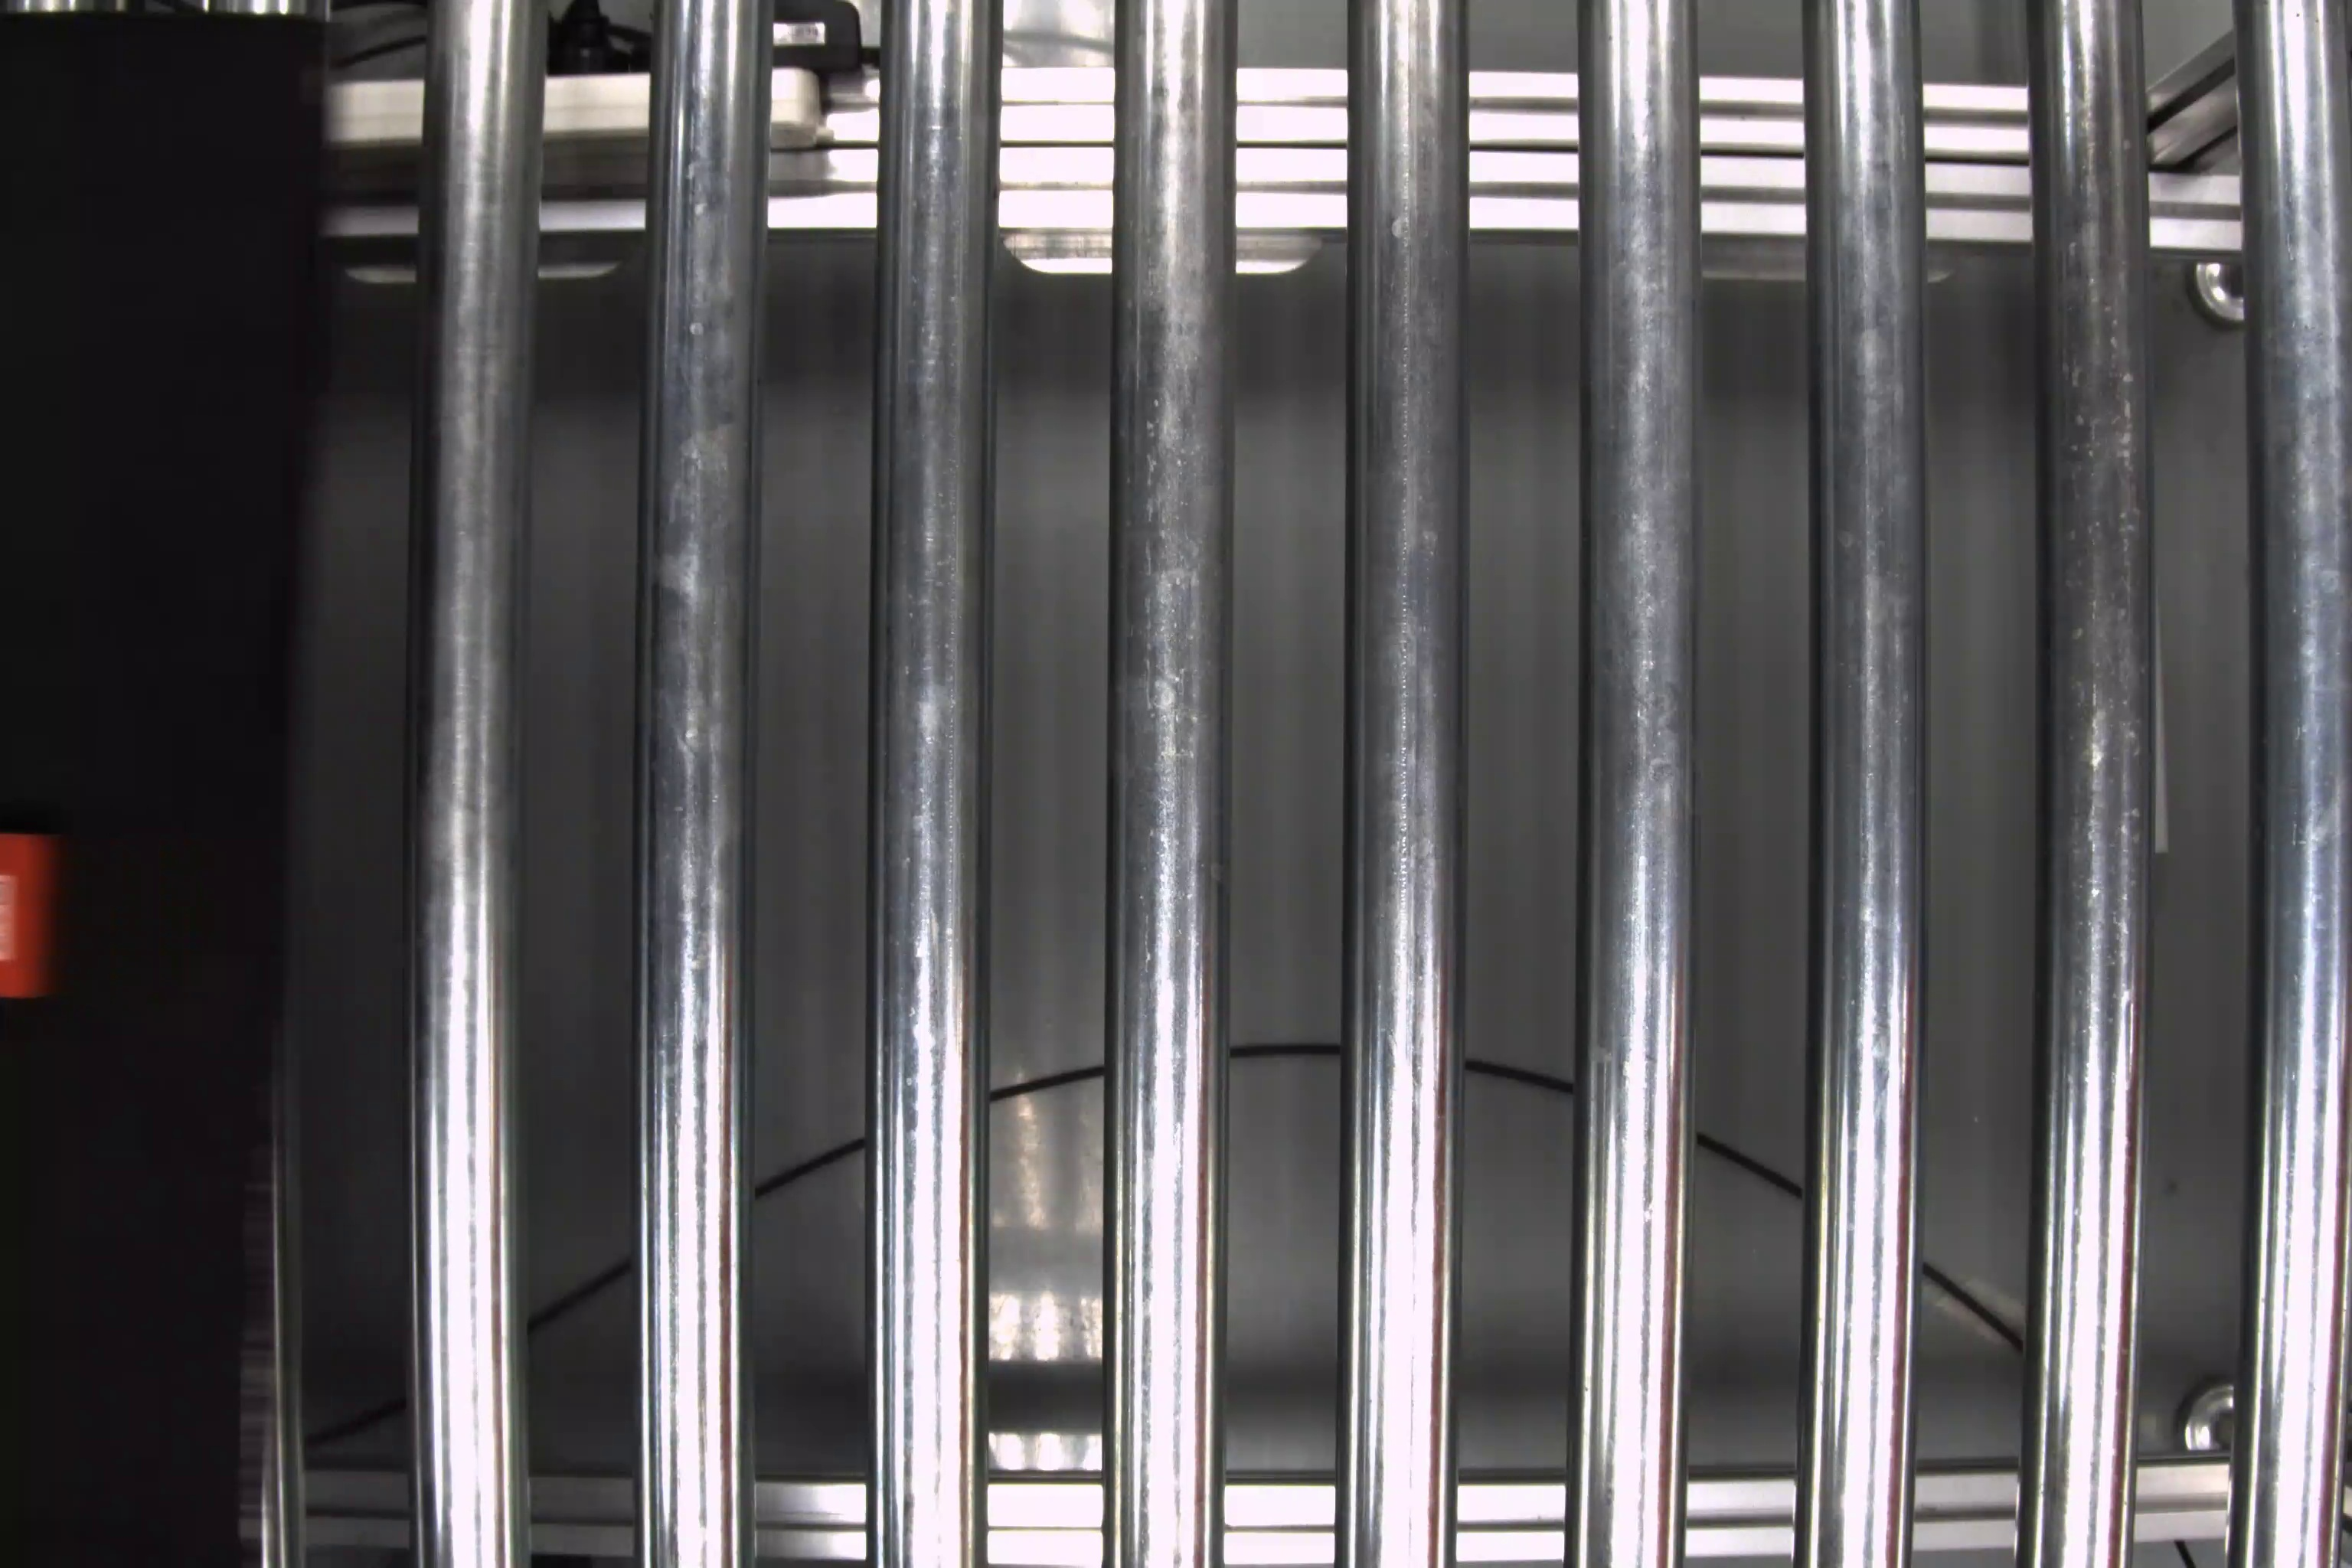wood: (2, 833, 79, 1001)
